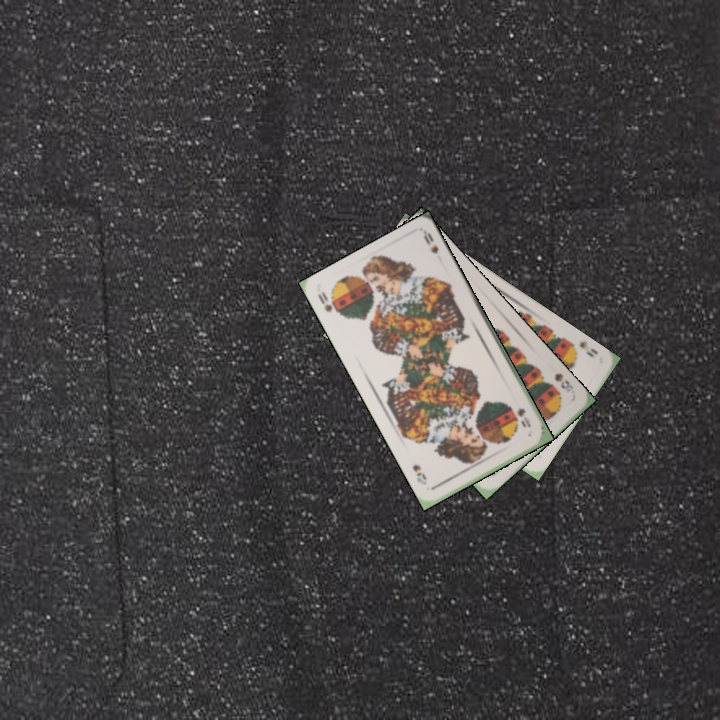S8: (550, 369, 576, 395)
S9: (564, 337, 601, 360)
SO: (313, 287, 335, 315), (513, 404, 533, 430)
